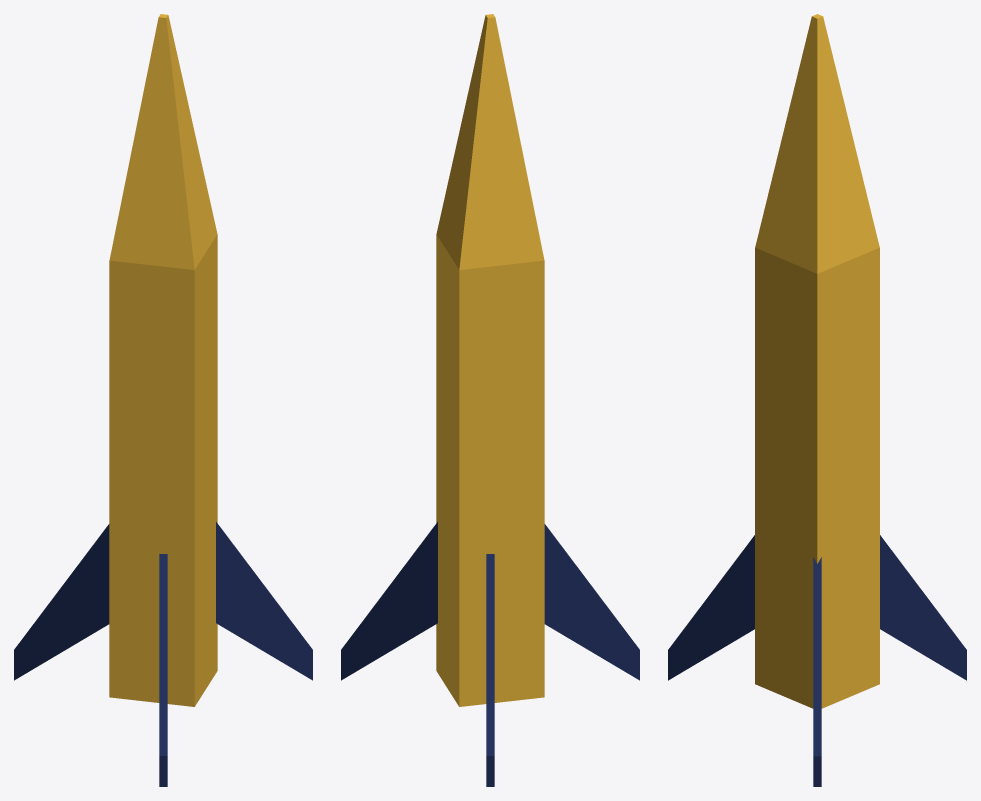
Rendered from SM_Prop_Missile_LQ.glb.
3 views of the same model, side by side, from view 1: azimuth 30°, elevation 25°; view 2: azimuth 150°, elevation 25°; view 3: azimuth 270°, elevation 25° (orthographic).
Visible parts, largest first — view 1: SM_Prop_Missile_LQ; view 2: SM_Prop_Missile_LQ; view 3: SM_Prop_Missile_LQ.
Boxes of the visible parts, x1,y1,x2,y2 form: SM_Prop_Missile_LQ: [14, 14, 312, 786]; SM_Prop_Missile_LQ: [341, 14, 639, 786]; SM_Prop_Missile_LQ: [668, 14, 966, 786].
Size of the model in its own units: 0.4565 by 1.36 by 0.5271.
1 material, 1 textured.
